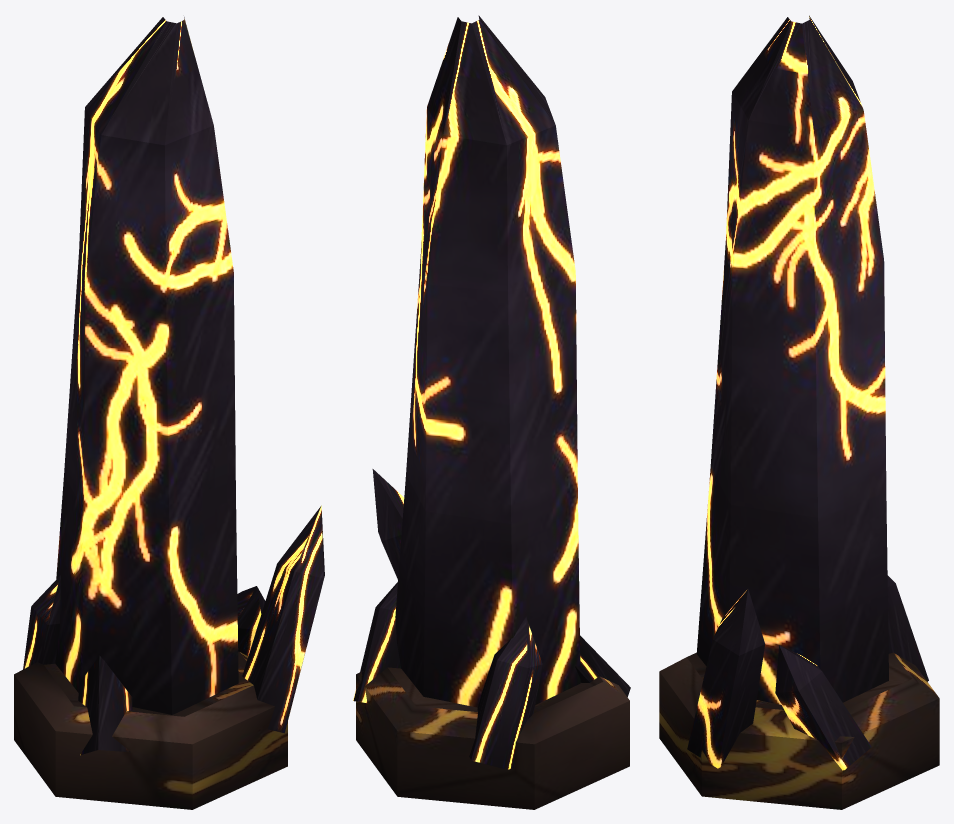
The model's file is throne_obsidian_pillar.glb.
3 renders of one model, left to right at view 1: azimuth 30°, elevation 25°; view 2: azimuth 150°, elevation 25°; view 3: azimuth 270°, elevation 25°, orthographic. The views are drawn at different scales.
Visible parts, largest first — view 1: throne_obsidian_pillar; view 2: throne_obsidian_pillar; view 3: throne_obsidian_pillar.
Part boxes in pixels (x1=…): throne_obsidian_pillar: x1=14, y1=17, x2=324, y2=809; throne_obsidian_pillar: x1=353, y1=15, x2=630, y2=809; throne_obsidian_pillar: x1=659, y1=15, x2=939, y2=809.
Size of the model in its own units: 1.33 by 3.55 by 1.21.
2 materials, 2 textured.
